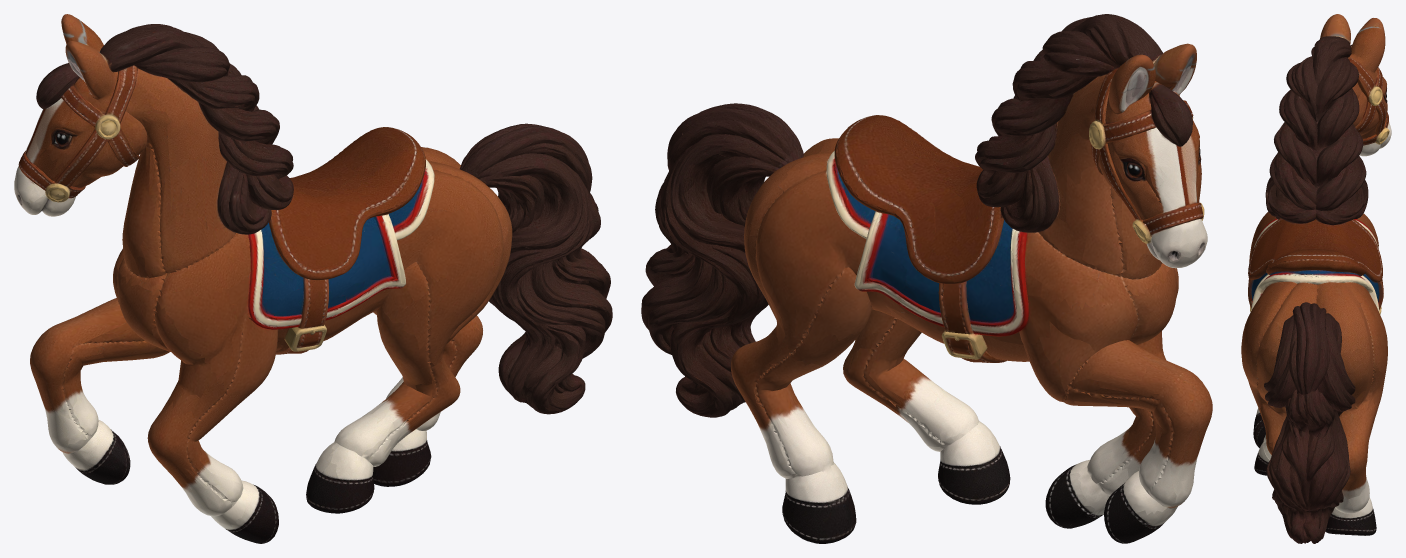
Rendered from brown-horse.glb.
3 renders of one model, left to right at view 1: azimuth 30°, elevation 25°; view 2: azimuth 150°, elevation 25°; view 3: azimuth 270°, elevation 25°, orthographic. The views are drawn at different scales.
Bounding box in the file's own units: 1.9 × 1.74 × 0.5909.
1 material, 1 textured.
